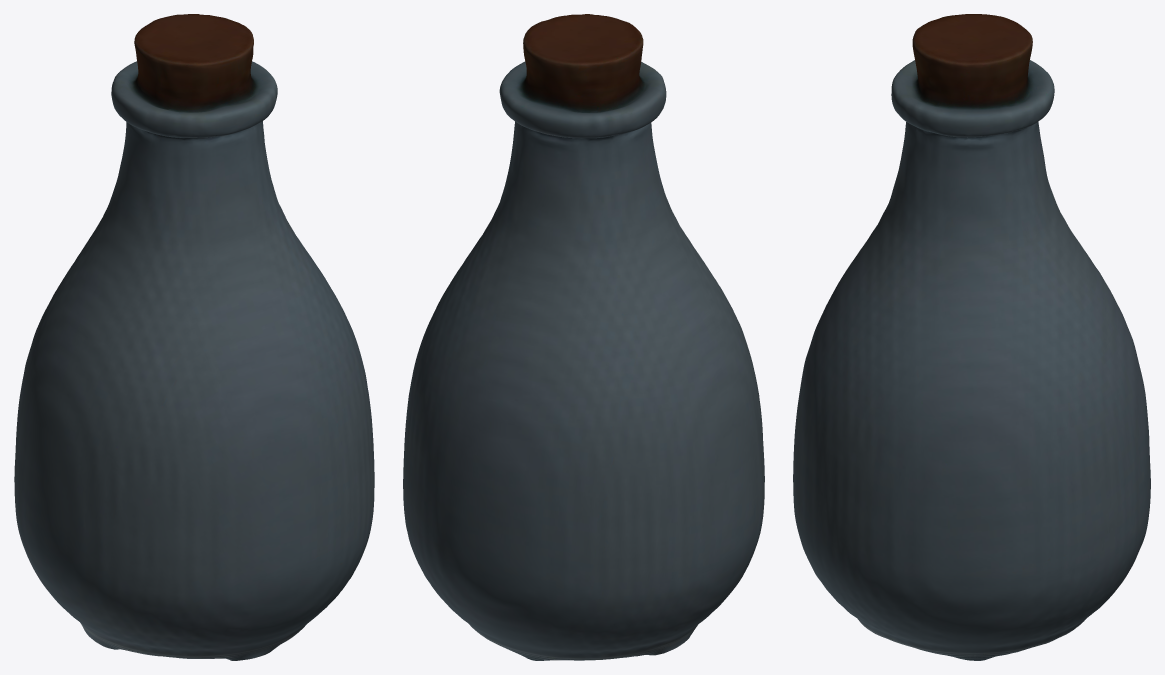
The model's file is luma-glass-bottle-7.glb.
3 views of the same model, side by side, from view 1: azimuth 30°, elevation 25°; view 2: azimuth 150°, elevation 25°; view 3: azimuth 270°, elevation 25° (orthographic).
Parts seen in each view (by area): view 1: world; view 2: world; view 3: world.
Boxes of the visible parts, <box> form: world: <box>14,14,374,660</box>; world: <box>403,14,764,660</box>; world: <box>793,14,1150,660</box>.
Bounding box in the file's own units: 0.3181 × 0.5679 × 0.3184.
1 material, 1 textured.
